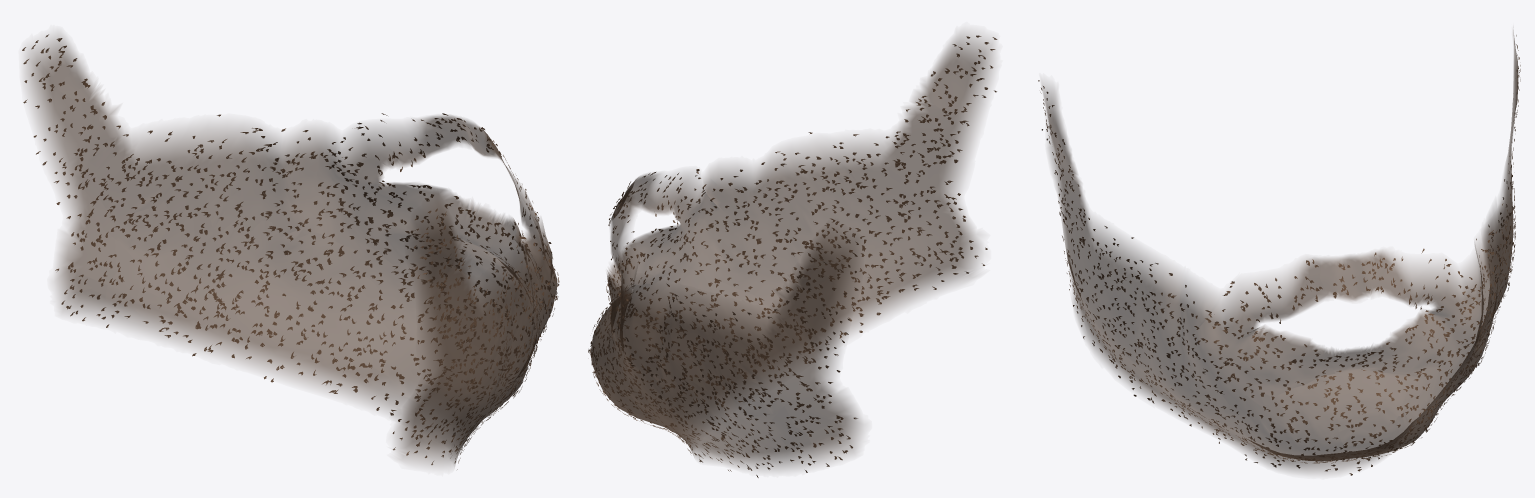
Rendered from beard-m2-stubble.glb.
The picture shows the model from 3 angles, left to right: view 1: azimuth 30°, elevation 25°; view 2: azimuth 150°, elevation 25°; view 3: azimuth 270°, elevation 25°; orthographic projection. The views are drawn at different scales.
Visible parts, largest first — view 1: Beard_m2_stubble_root, Beard_m2_stubble_cards; view 2: Beard_m2_stubble_root, Beard_m2_stubble_cards; view 3: Beard_m2_stubble_root, Beard_m2_stubble_cards.
Boxes of the visible parts, x1,y1,x2,y2 form: Beard_m2_stubble_root: (25,34,557,466); Beard_m2_stubble_cards: (22,34,559,469); Beard_m2_stubble_root: (590,32,994,470); Beard_m2_stubble_cards: (588,35,997,477); Beard_m2_stubble_root: (1042,30,1518,473); Beard_m2_stubble_cards: (1038,35,1520,475).
Bounding box in the file's own units: 0.1306 × 0.1266 × 0.1557.
Materials: 2 (1 with a texture image).
